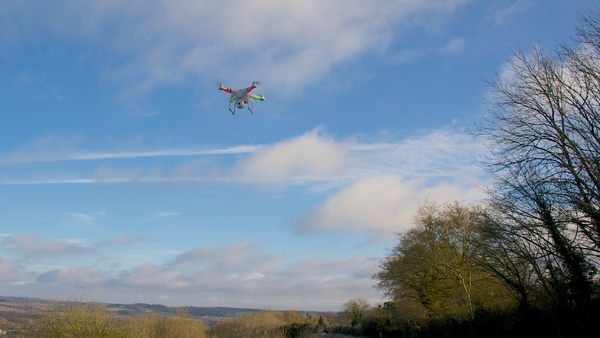drone: (213, 76, 268, 120)
